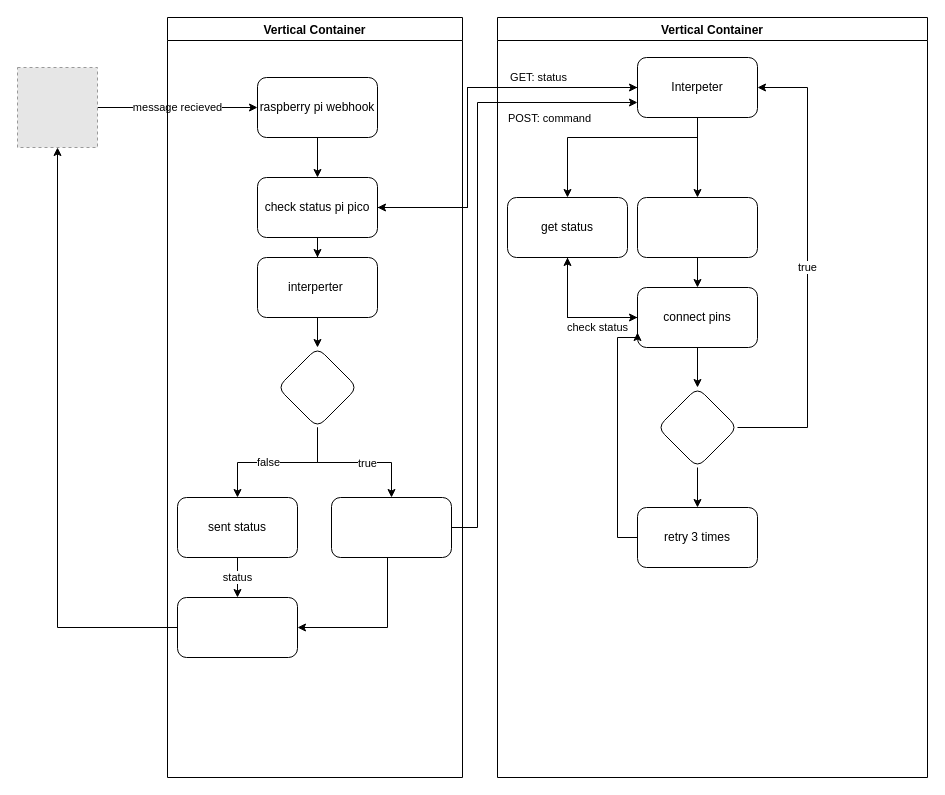
Some shapes in this 945 by 795 pixel diagram are drawn without their labels. Grey dashed boxes stand in for pictures. The centre of each missing label's shape, as x and y in pixels:
command: the point at 697,227
message wrapper: the point at 237,627
power command: the point at 391,527
status != command: the point at 317,387
status == command: the point at 697,427
